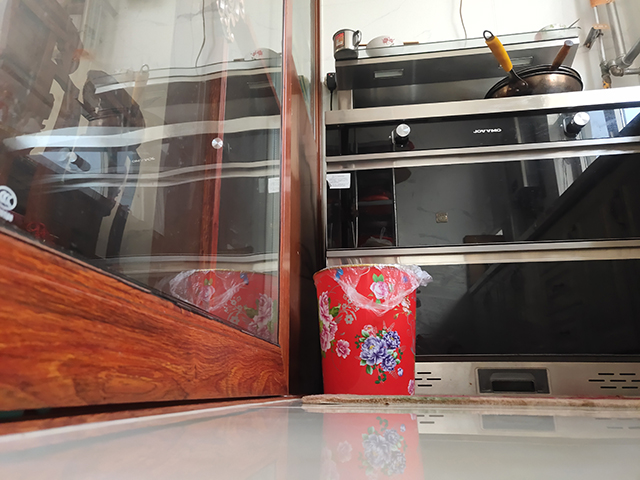carpet: (300, 391, 640, 409)
trashcan: (311, 262, 422, 397)
